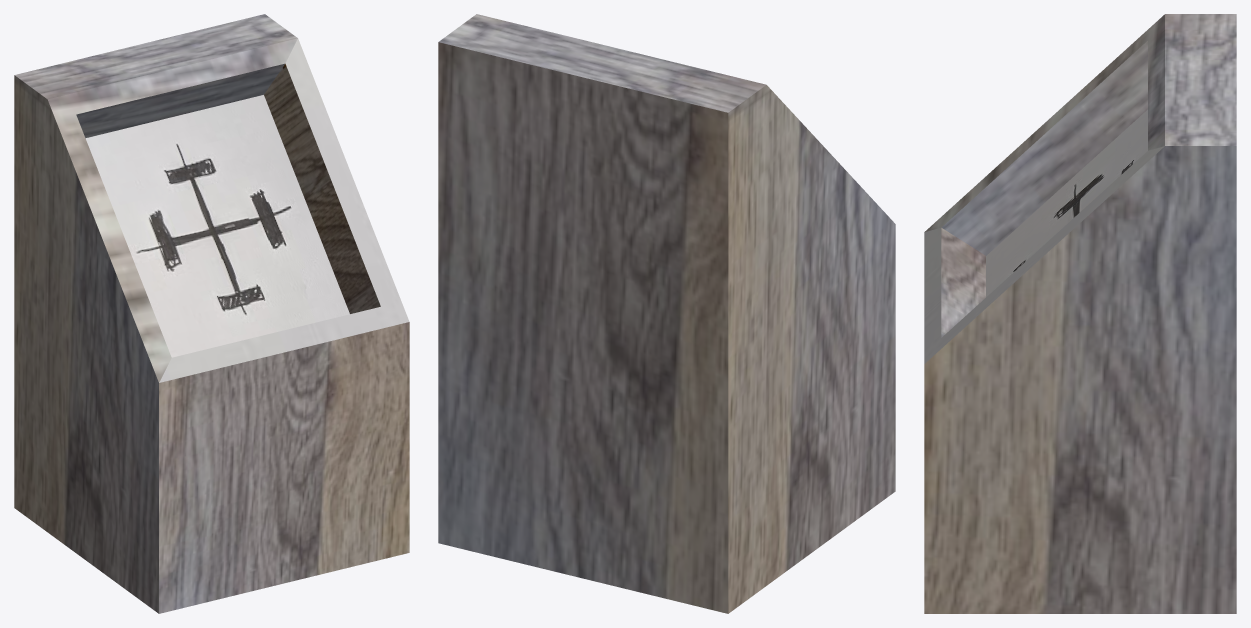
File: sym_pillar04.obj
3 renders of one model, left to right at view 1: azimuth 30°, elevation 25°; view 2: azimuth 150°, elevation 25°; view 3: azimuth 270°, elevation 25°, orthographic. The views are drawn at different scales.
Visible parts, largest first — view 1: Cube.020; view 2: Cube.020; view 3: Cube.020.
Part boxes in pixels (x1,y1,x2,y2): Cube.020: (14,14,409,613); Cube.020: (438,14,895,613); Cube.020: (924,14,1236,613).
Size of the model in its own units: 0.7332 by 1.21 by 0.7332.
